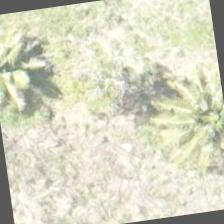Kelapa_Sawit: (157, 77, 223, 176)
